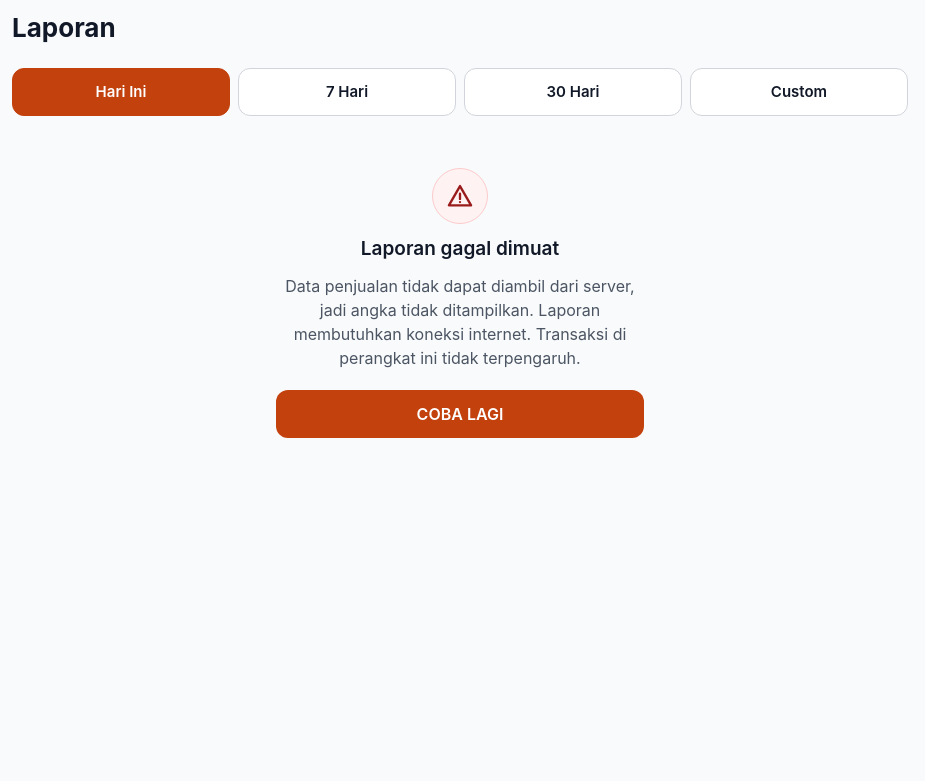
it: ReportDashboard › shows an error with COBA LAGI, never zeros, when the request fails
Expected: the heading "Laporan gagal dimuat" is shown, x1=361 y1=236 x2=559 y2=262
Expected: the element "Omzet" is not shown
Click the button "COBA LAGI".
click(460, 414)  # box x1=276 y1=390 x2=644 y2=438
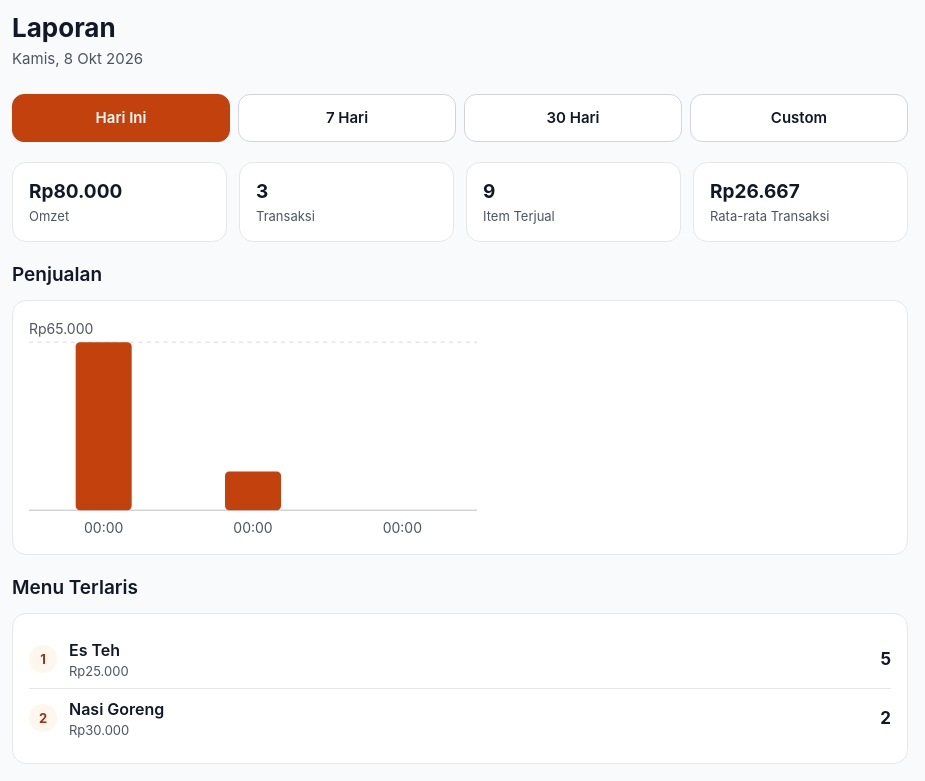
Expected: the element "Omzet" is shown, x1=12 y1=162 x2=227 y2=242
